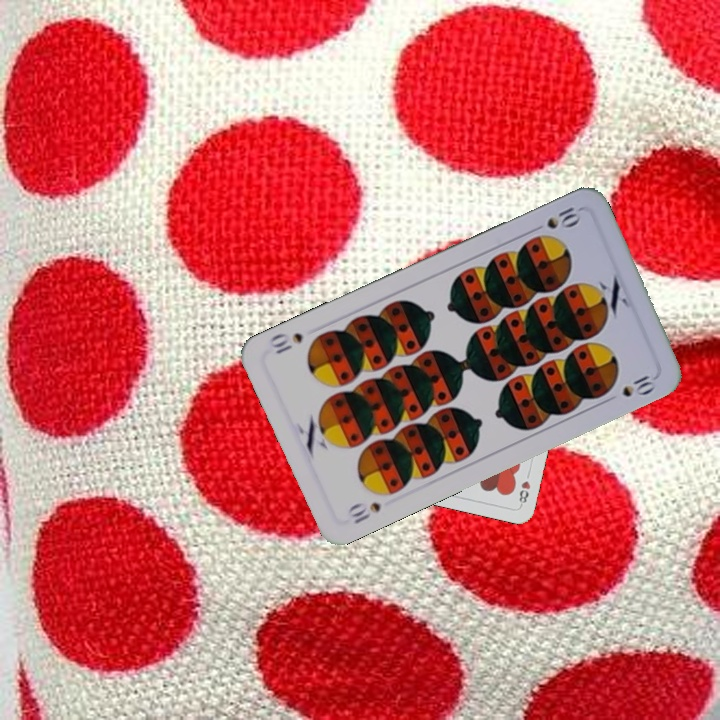H8: (515, 476, 533, 508)
S10: (542, 202, 584, 232), (343, 498, 384, 527)
